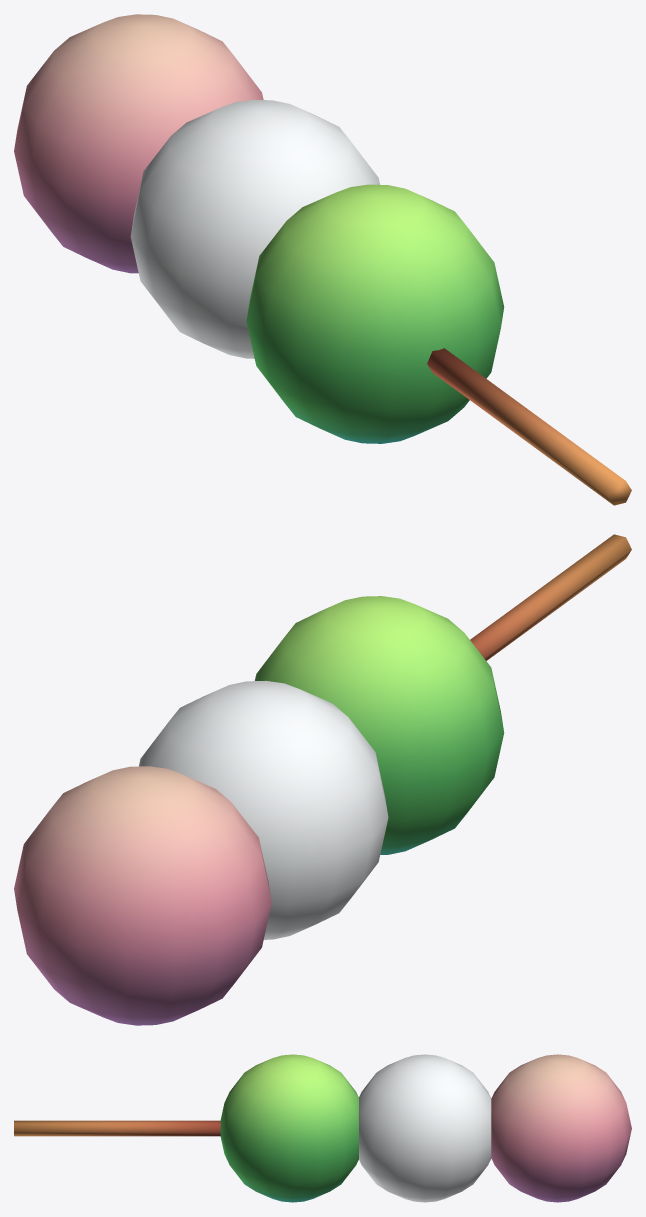
The model's file is W2_PLATFORM_5.fbx.
The picture shows the model from 3 angles, top to bottom: view 1: azimuth 30°, elevation 25°; view 2: azimuth 150°, elevation 25°; view 3: azimuth 270°, elevation 25°; orthographic projection. The views are drawn at different scales.
Visible parts, largest first — view 1: W2_PLATFORM_5; view 2: W2_PLATFORM_5; view 3: W2_PLATFORM_5.
Boxes of the visible parts, x1=… form: W2_PLATFORM_5: x1=14, y1=14, x2=631, y2=505; W2_PLATFORM_5: x1=14, y1=534, x2=631, y2=1025; W2_PLATFORM_5: x1=14, y1=1054, x2=631, y2=1202.
Bounding box in the file's own units: 320 × 320 × 1333.
